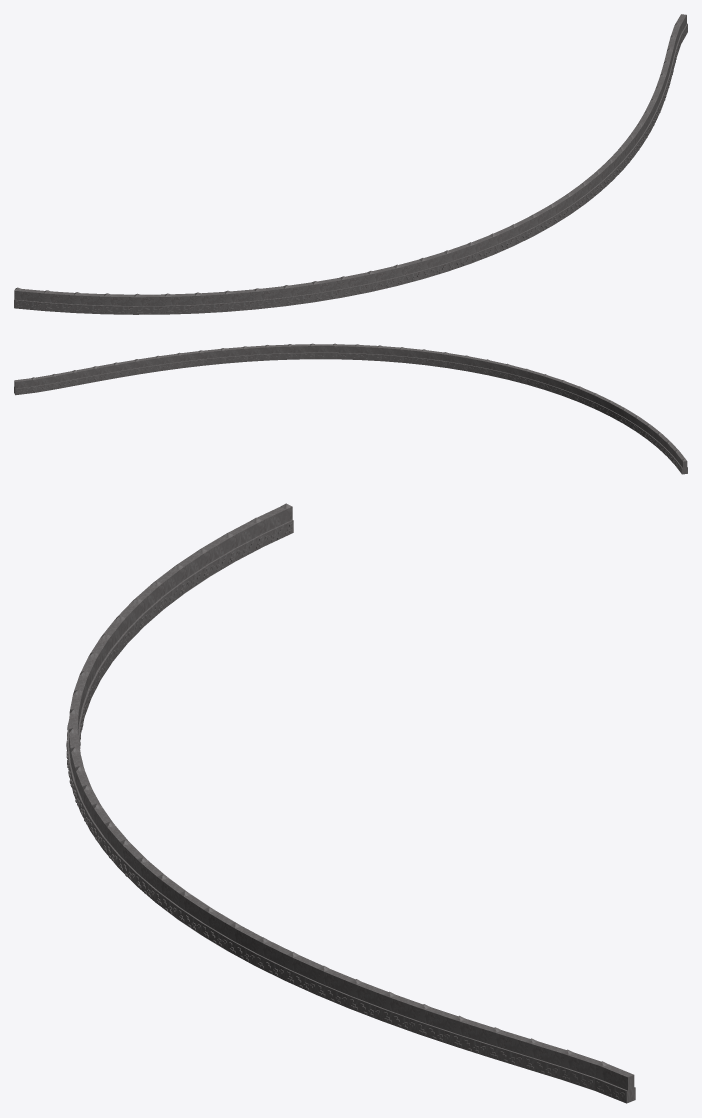
File: Pagarbanyak7.fbx
3 views of the same model, one above another, from view 1: azimuth 30°, elevation 25°; view 2: azimuth 150°, elevation 25°; view 3: azimuth 270°, elevation 25° (orthographic). The views are drawn at different scales.
Visible parts, largest first — view 1: Pagar2; view 2: Pagar2; view 3: Pagar2.
Boxes of the visible parts, box(x1,y1,x2,y2) form: Pagar2: box(14, 14, 687, 314); Pagar2: box(14, 343, 687, 474); Pagar2: box(66, 503, 635, 1103).
Bounding box in the file's own units: 8302 × 195 × 3478.
